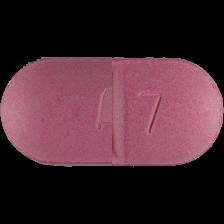16590-017: (0, 0, 224, 224)
